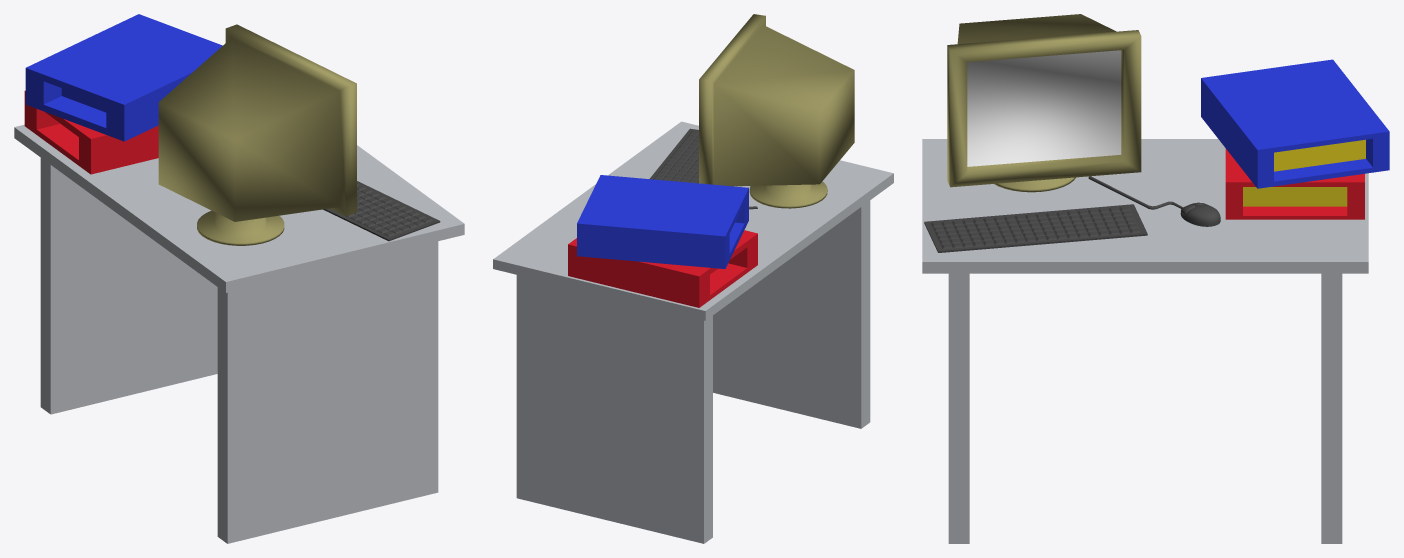
File: desktop.fbx
The picture shows the model from 3 angles, left to right: view 1: azimuth 30°, elevation 25°; view 2: azimuth 150°, elevation 25°; view 3: azimuth 270°, elevation 25°; orthographic projection. The views are drawn at different scales.
Parts seen in each view (by area): view 1: стол; view 2: стол; view 3: стол.
Part boxes in pixels (<box>): стол: <box>14,14,464,543</box>; стол: <box>493,14,893,543</box>; стол: <box>922,14,1389,543</box>.
Bounding box in the file's own units: 124 × 207 × 194.
